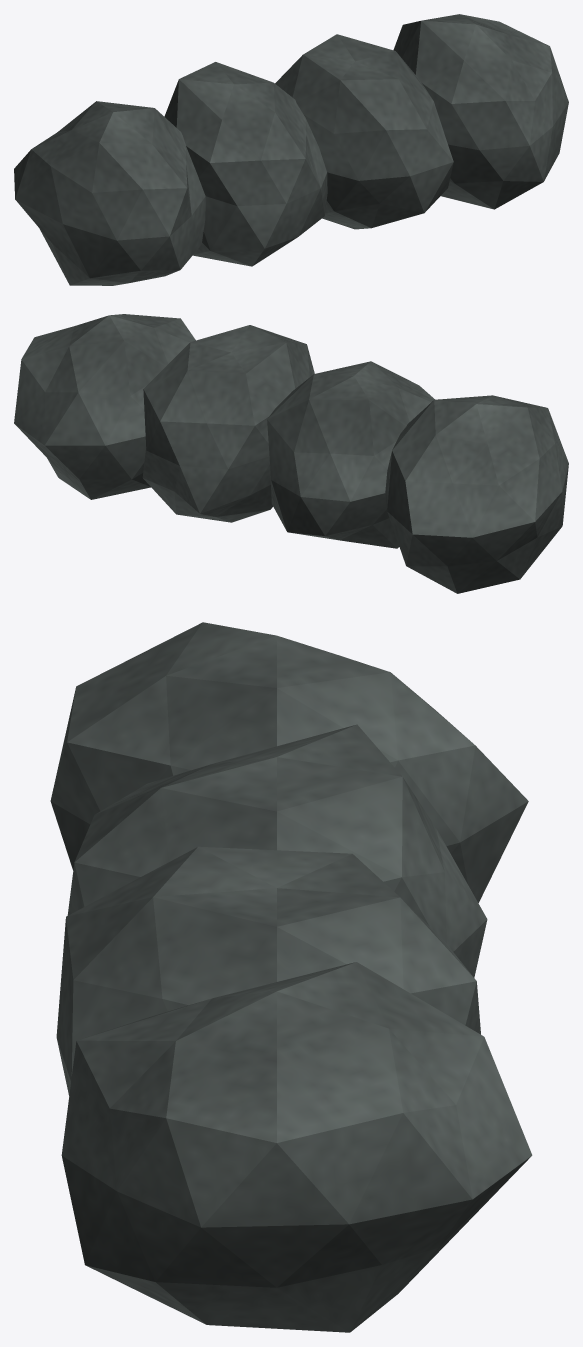
The model's file is breakwater.glb.
3 renders of one model, top to bottom at view 1: azimuth 30°, elevation 25°; view 2: azimuth 150°, elevation 25°; view 3: azimuth 270°, elevation 25°, orthographic. The views are drawn at different scales.
Parts seen in each view (by area): view 1: Block, Block.003, Block.001, Block.002; view 2: Block, Block.002, Block.003, Block.001; view 3: Block.003, Block, Block.002, Block.001.
Part boxes in pixels (x1,y1,x2,y2): Block: (14,101,205,285); Block.003: (393,14,568,209); Block.001: (164,62,327,266); Block.002: (275,34,453,229); Block: (385,395,568,593); Block.002: (142,325,314,522); Block.003: (14,314,195,499); Block.001: (267,361,434,548); Block.003: (61,962,532,1332); Block: (50,622,528,902); Block.002: (56,846,480,1095); Block.001: (67,724,487,977).
Size of the model in its own units: 7.66 by 2.51 by 3.11.
Materials: 1 (1 with a texture image).
